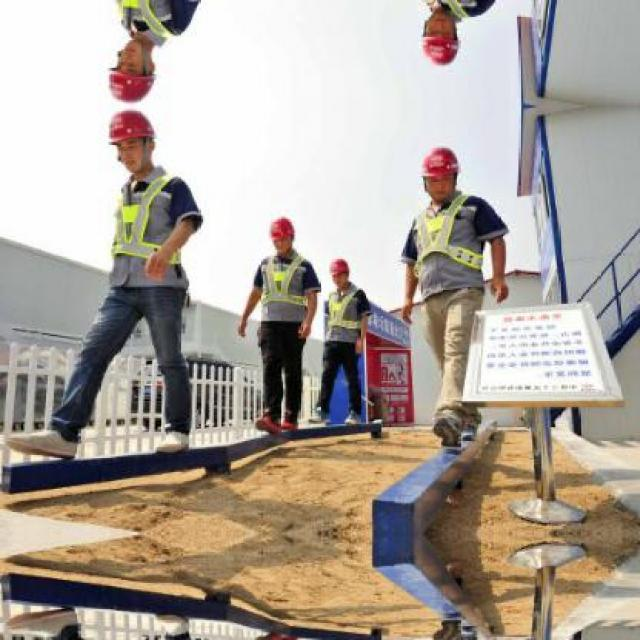Reflective-Jacket: (95, 168, 208, 285), (404, 193, 502, 288), (248, 250, 320, 327), (318, 282, 372, 341)
Safety-Helmet: (97, 105, 166, 153), (409, 139, 469, 185), (260, 210, 303, 248), (324, 253, 356, 282)
